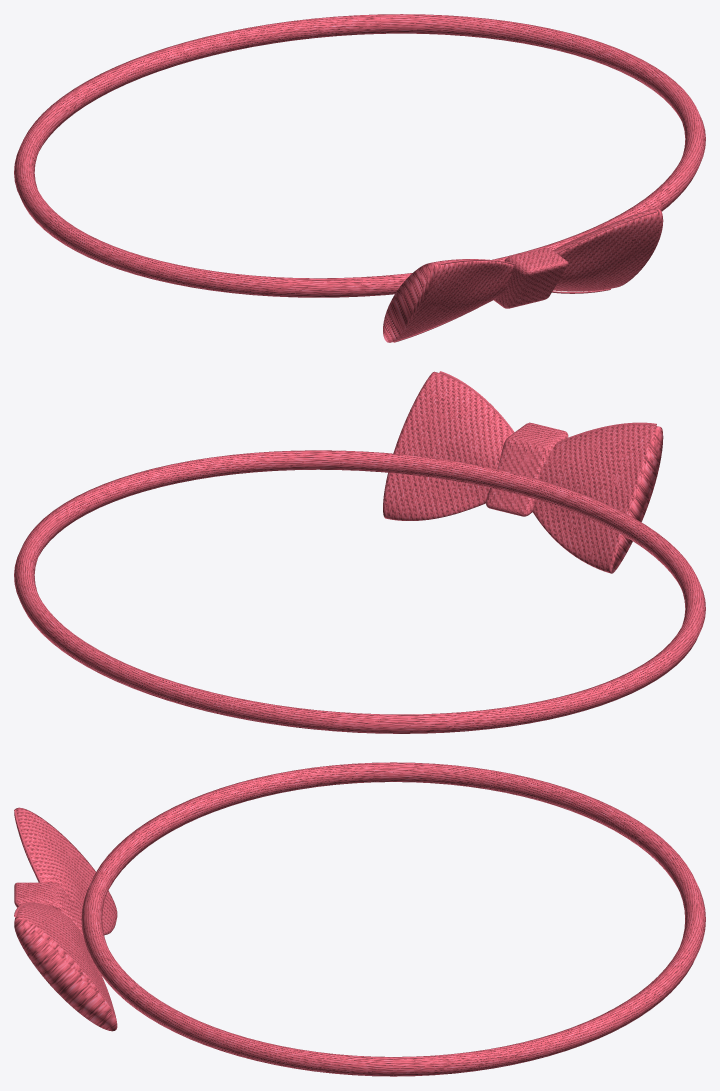
Rendered from restart_bow_neck_penguin.glb.
3 views of the same model, one above another, from view 1: azimuth 30°, elevation 25°; view 2: azimuth 150°, elevation 25°; view 3: azimuth 270°, elevation 25° (orthographic).
Parts seen in each view (by area): view 1: Patrón cuello · Lazo coral nuevo; view 2: Patrón cuello · Lazo coral nuevo; view 3: Patrón cuello · Lazo coral nuevo.
Part boxes in pixels (<box>): Patrón cuello · Lazo coral nuevo: <box>14,14,705,342</box>; Patrón cuello · Lazo coral nuevo: <box>14,371,705,733</box>; Patrón cuello · Lazo coral nuevo: <box>14,762,705,1076</box>.
Size of the model in its own units: 0.5509 by 0.0965 by 0.5312.
1 material, 1 textured.
